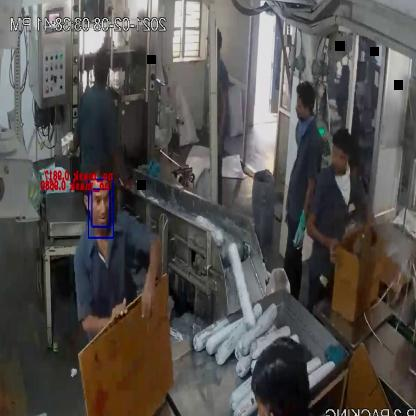no_glove: (133, 226, 164, 324), (75, 292, 132, 344), (304, 218, 346, 264)
